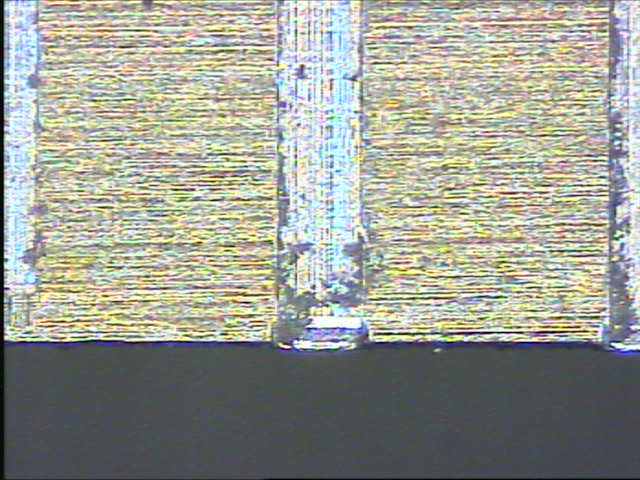line: (271, 1, 367, 344)
